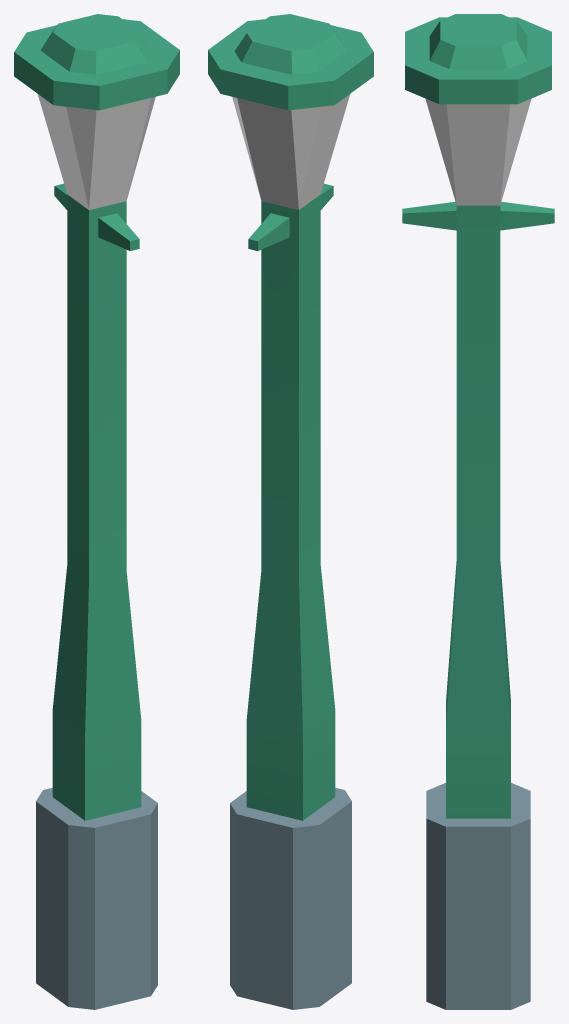
File: lantern.obj
3 renders of one model, left to right at view 1: azimuth 30°, elevation 25°; view 2: azimuth 150°, elevation 25°; view 3: azimuth 270°, elevation 25°, orthographic.
Visible parts, largest first — view 1: lantern; view 2: lantern; view 3: lantern.
Part boxes in pixels (x1=…): lantern: x1=14, y1=14, x2=179, y2=1009; lantern: x1=208, y1=14, x2=373, y2=1009; lantern: x1=402, y1=14, x2=554, y2=1009.
Bounding box in the file's own units: 0.2164 × 1.56 × 0.2243.
